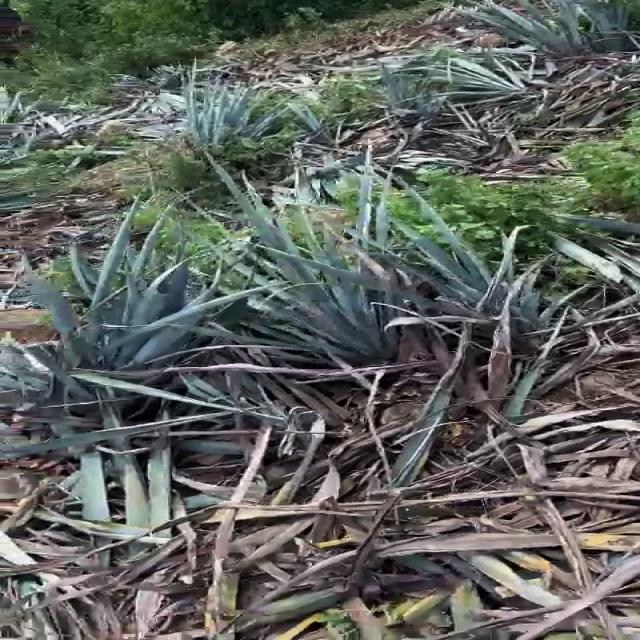agave: (193, 222, 404, 404), (380, 195, 580, 364), (49, 228, 193, 400)
